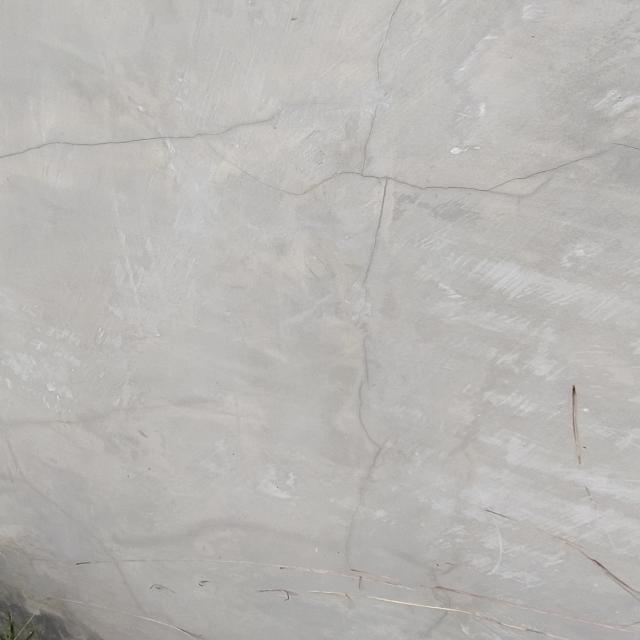Crack: (1, 0, 640, 296)
